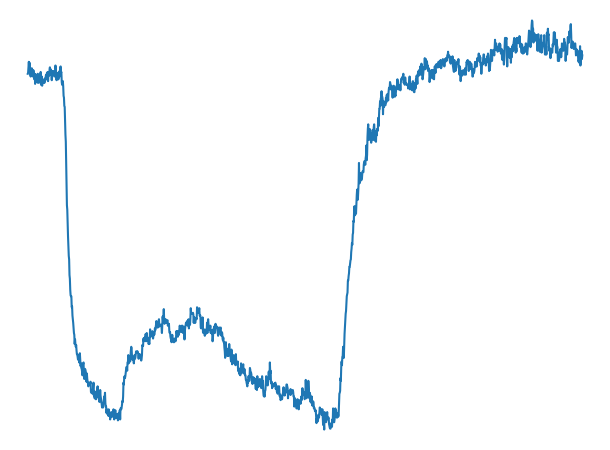decrease: (53, 55, 71, 89)
increase: (327, 394, 345, 434), (114, 401, 127, 425)
